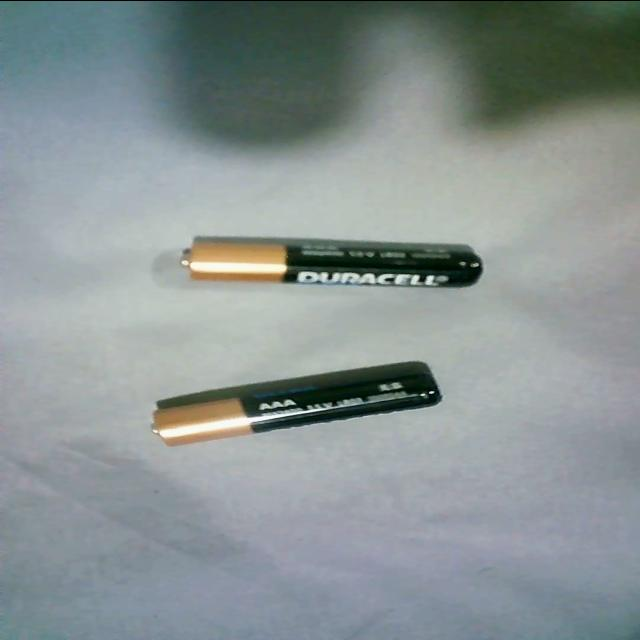AAA: (140, 362, 454, 448), (170, 230, 492, 292)
